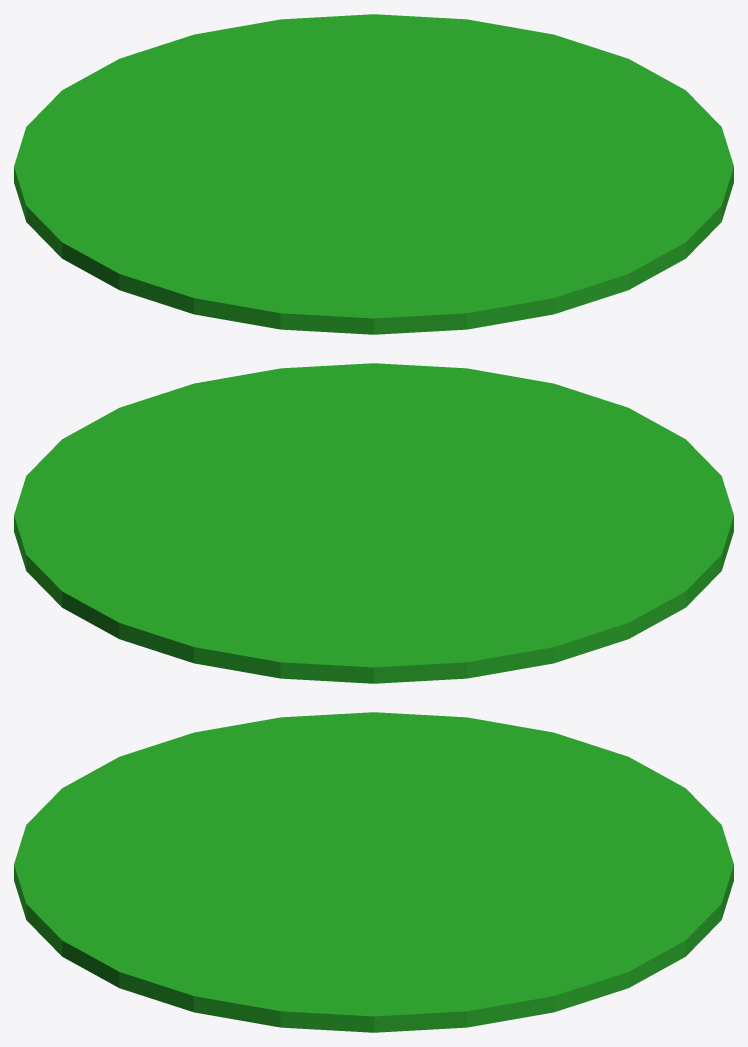
File: figure_circle_green.dae
3 renders of one model, top to bottom at view 1: azimuth 30°, elevation 25°; view 2: azimuth 150°, elevation 25°; view 3: azimuth 270°, elevation 25°, orthographic.
Parts seen in each view (by area): view 1: Circle; view 2: Circle; view 3: Circle.
Boxes of the visible parts, x1,y1,x2,y2 form: Circle: [14, 14, 733, 334]; Circle: [14, 363, 733, 683]; Circle: [14, 712, 733, 1032].
Size of the model in its own units: 1 by 1 by 0.025.
1 material, 1 textured.
